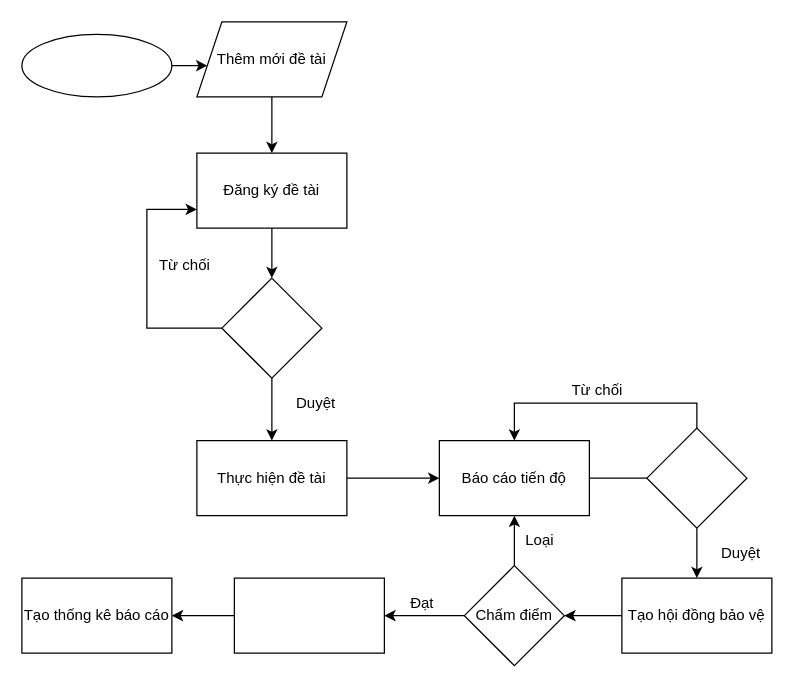
The diagram is 794 pixels wide and 688 high, and some of its shapes have lost their labels. Here are the shapes that lost their labels. From the top down, the centre of each, then its label:
(x=96, y=65): Bắt đầu
(x=271, y=327): Duyệt đăng ký
(x=696, y=477): Đăng ký bảo vệ
(x=308, y=615): Lưu kết quả
